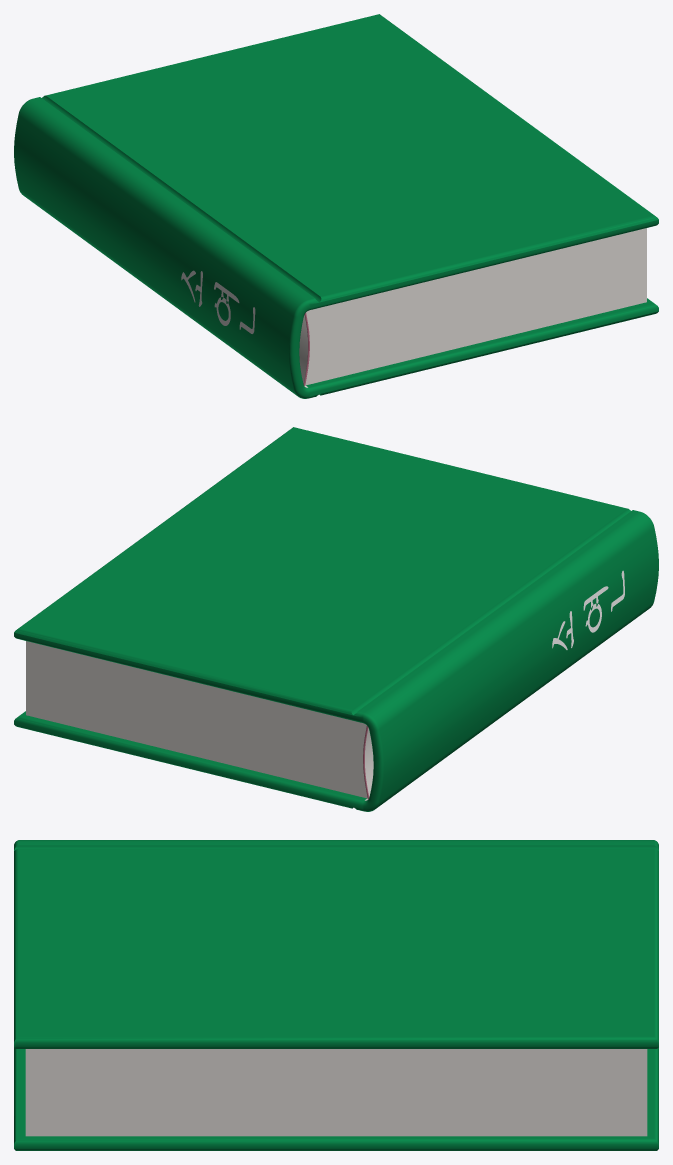
File: book4.glb
3 views of the same model, one above another, from view 1: azimuth 30°, elevation 25°; view 2: azimuth 150°, elevation 25°; view 3: azimuth 270°, elevation 25° (orthographic). The views are drawn at different scales.
Visible parts, largest first — view 1: Geode, Text; view 2: Geode, Text; view 3: Geode.
Boxes of the visible parts, <box> form: Geode: <box>14,14,658,398</box>; Text: <box>181,270,255,333</box>; Geode: <box>14,427,658,811</box>; Text: <box>552,570,624,649</box>; Geode: <box>14,840,658,1150</box>.
Size of the model in its own units: 0.5052 by 0.1292 by 0.6604.
Materials: 3 (1 with a texture image).
